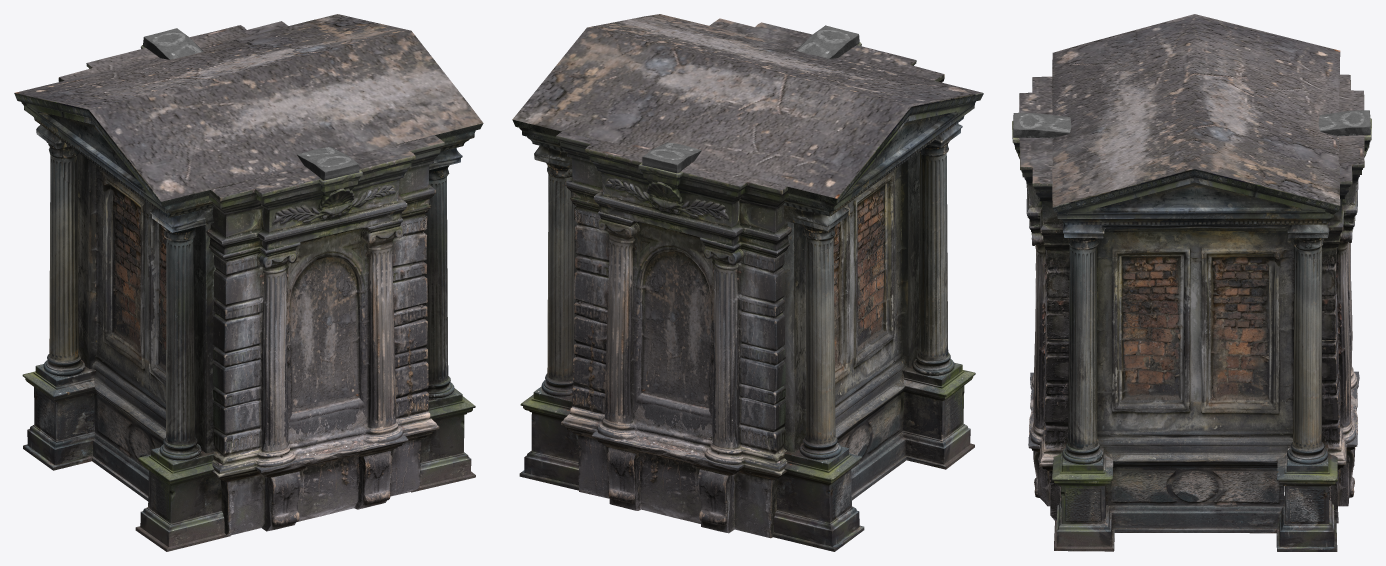
The model's file is sm_GraveStone_01_02.fbx.
3 renders of one model, left to right at view 1: azimuth 30°, elevation 25°; view 2: azimuth 150°, elevation 25°; view 3: azimuth 270°, elevation 25°, orthographic. The views are drawn at different scales.
Visible parts, largest first — view 1: sm_GraveStone_01_02_LOD0; view 2: sm_GraveStone_01_02_LOD0; view 3: sm_GraveStone_01_02_LOD0.
Part boxes in pixels (x1=…): sm_GraveStone_01_02_LOD0: x1=14, y1=14, x2=483, y2=551; sm_GraveStone_01_02_LOD0: x1=512, y1=14, x2=983, y2=551; sm_GraveStone_01_02_LOD0: x1=1012, y1=14, x2=1371, y2=551.
Size of the model in its own units: 308 by 301 by 356.
